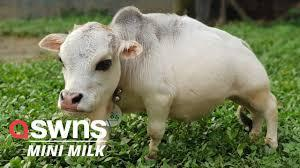cow: (39, 12, 277, 158)
